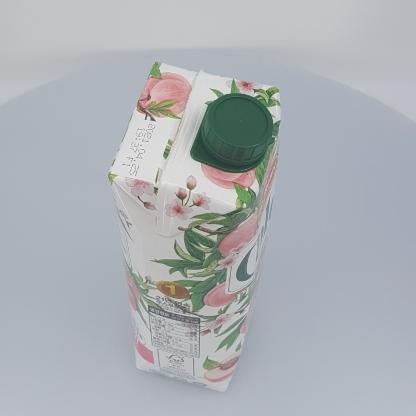-------------100_: (108, 62, 281, 392)
